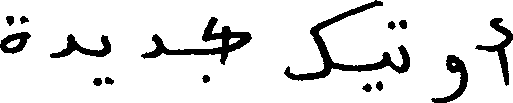أ: (495, 16, 510, 86)
ا: (218, 24, 232, 62)
ة: (0, 13, 27, 53)
ت: (389, 17, 409, 73)
ج: (197, 30, 250, 85)
د: (50, 32, 74, 59), (141, 31, 163, 59)
ك: (284, 0, 381, 93)
ل: (200, 10, 218, 39)
و: (433, 52, 467, 100)
ي: (92, 32, 116, 88), (359, 49, 389, 91)
